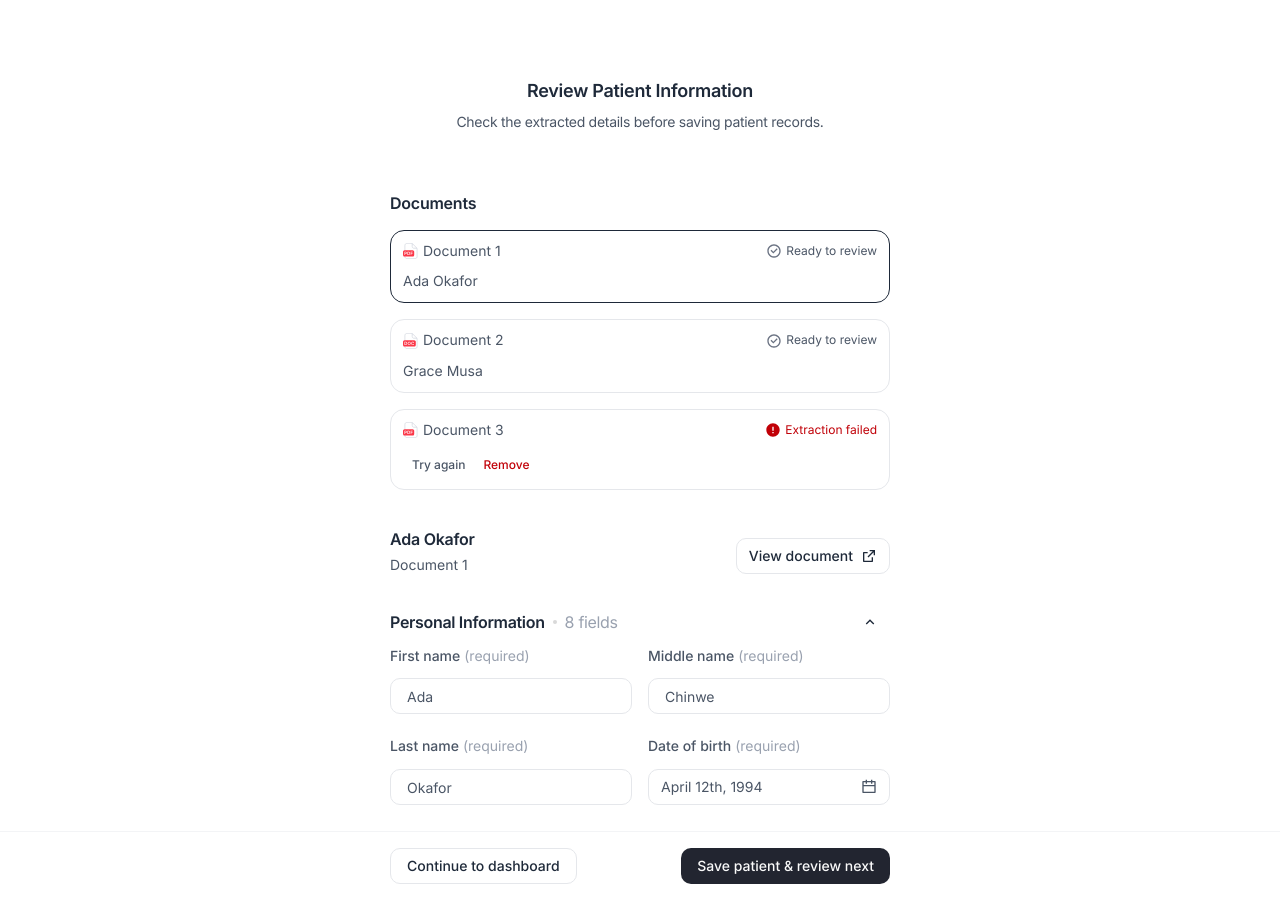
Test: opens a PDF source document in a new tab and offers a Word source document as a download
This screenshot has width=1280, height=900.
Expected: the link "Download document" is not shown
Click the button named "Review Document 2". click: coordinates (640, 356)
box: 391,320 -> 889,392
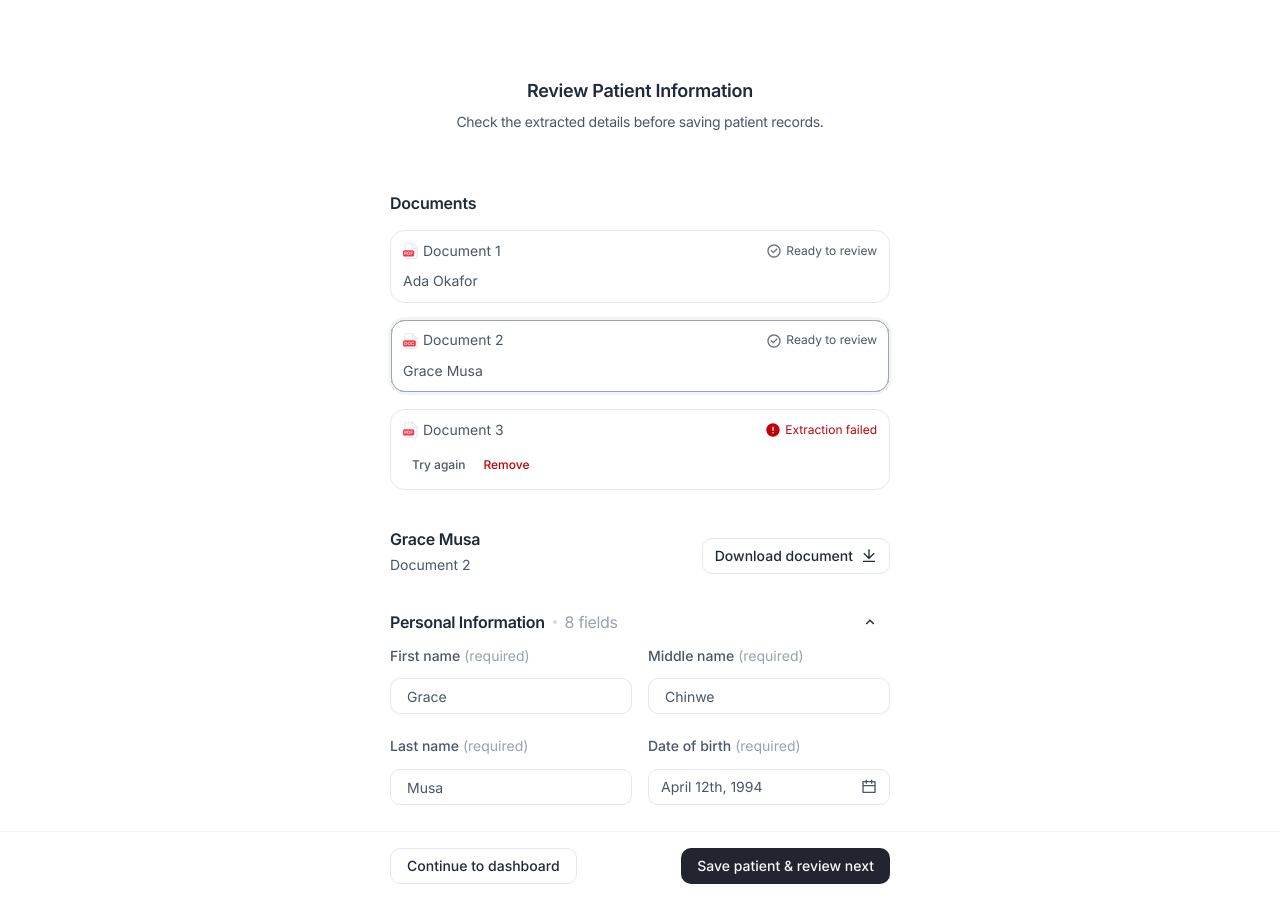
Result: the link "View document" is gone
